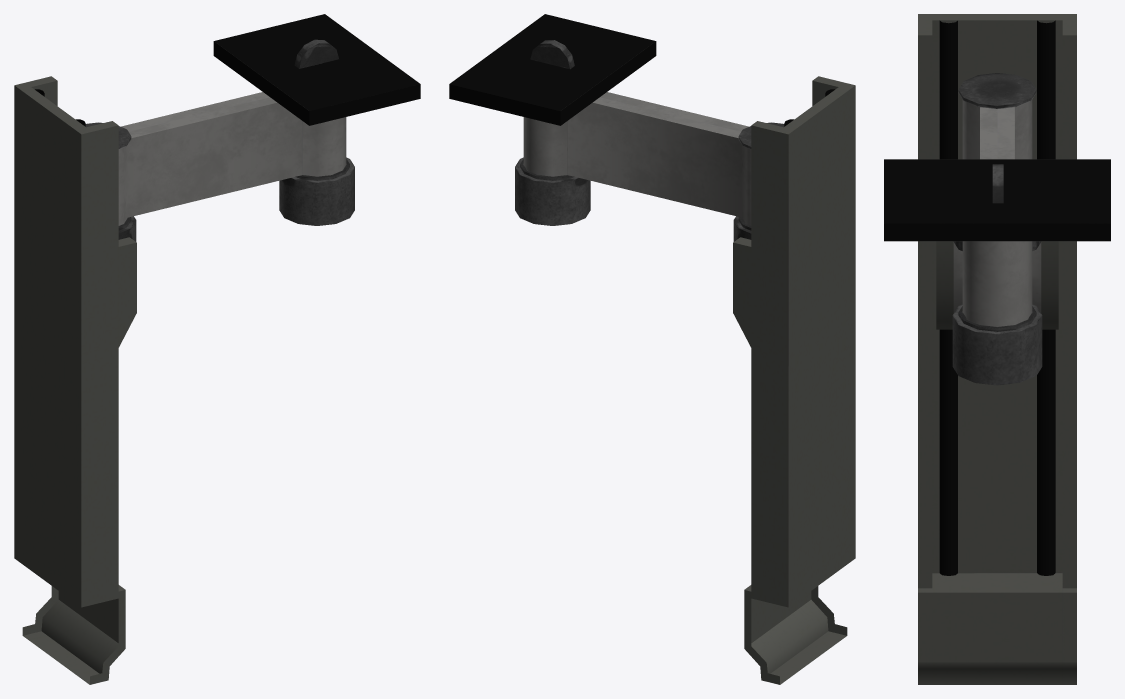
Rendered from tv_system.fbx.
3 renders of one model, left to right at view 1: azimuth 30°, elevation 25°; view 2: azimuth 150°, elevation 25°; view 3: azimuth 270°, elevation 25°, orthographic. The views are drawn at different scales.
Parts seen in each view (by area): view 1: TvSystm-material; view 2: TvSystm-material; view 3: TvSystm-material.
Part boxes in pixels (<box>): TvSystm-material: <box>14,14,420,684</box>; TvSystm-material: <box>449,14,855,684</box>; TvSystm-material: <box>884,14,1110,684</box>.
Bounding box in the file's own units: 7.15 × 11.67 × 3.65.
Materials: 1 (1 with a texture image).
